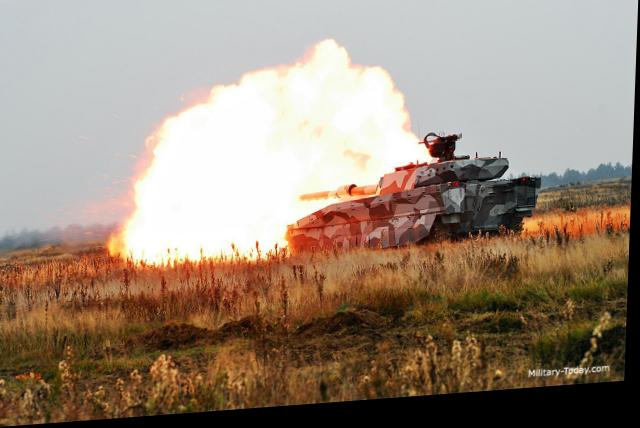tank: (265, 137, 556, 260)
